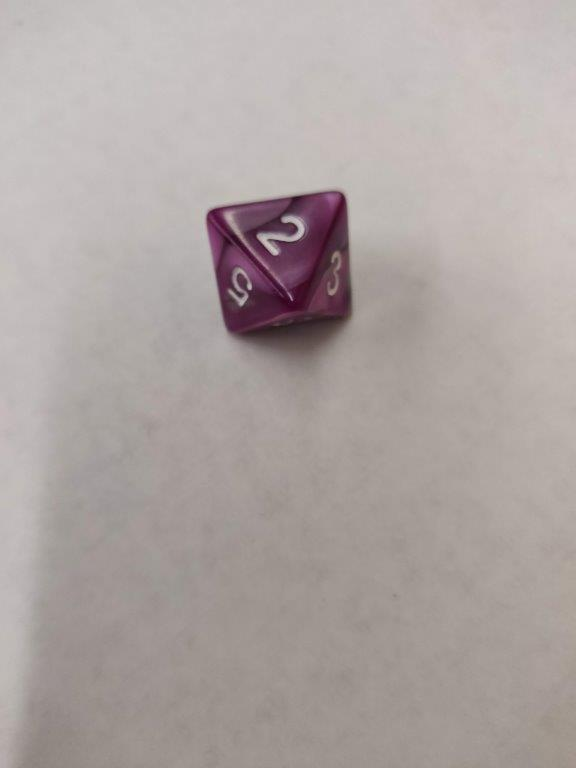d8-2: (203, 189, 355, 335)
